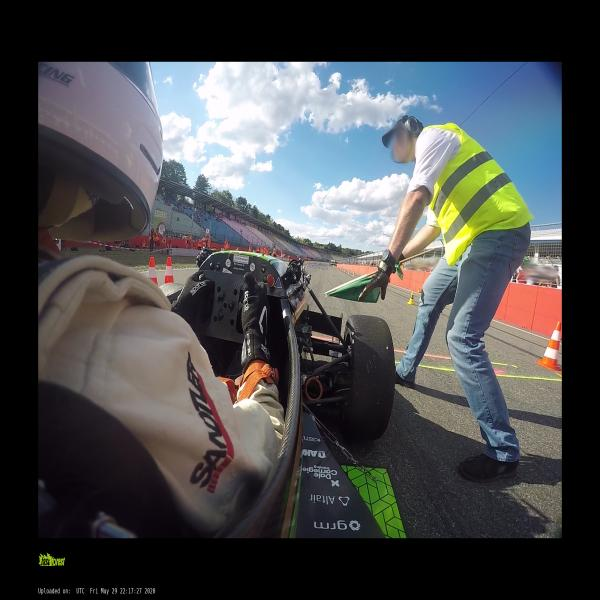large_orange_cone: (536, 321, 562, 372), (148, 258, 158, 286), (164, 257, 174, 283)
yellow_cone: (408, 292, 415, 304), (417, 287, 421, 291), (352, 272, 355, 276), (348, 270, 350, 274), (344, 270, 346, 272), (342, 269, 343, 271), (340, 268, 341, 270)
